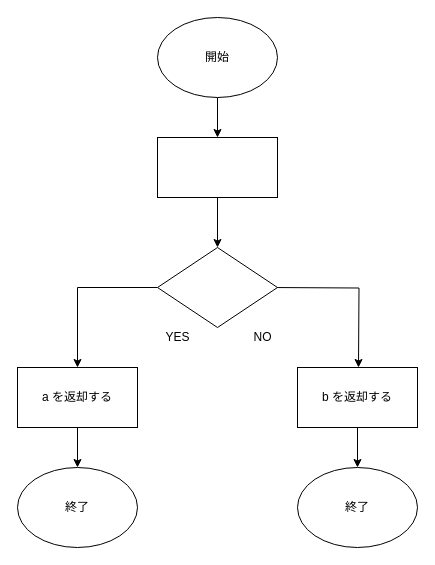
Some shapes in this 435 by 565 pixel diagram are drawn without their labels. The centre of each missing label's shape, as x and y in pixels:
a > b か？: the point at 217,287
a,b の２つの数値を入力する: the point at 217,167
